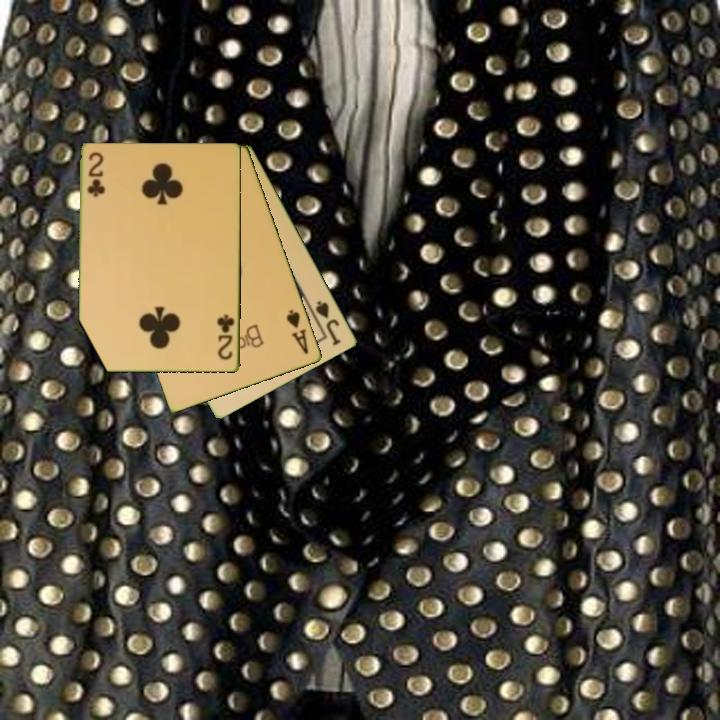2c: (214, 311, 237, 363), (84, 149, 105, 199)
As: (283, 306, 312, 357)
Js: (312, 297, 344, 349)
